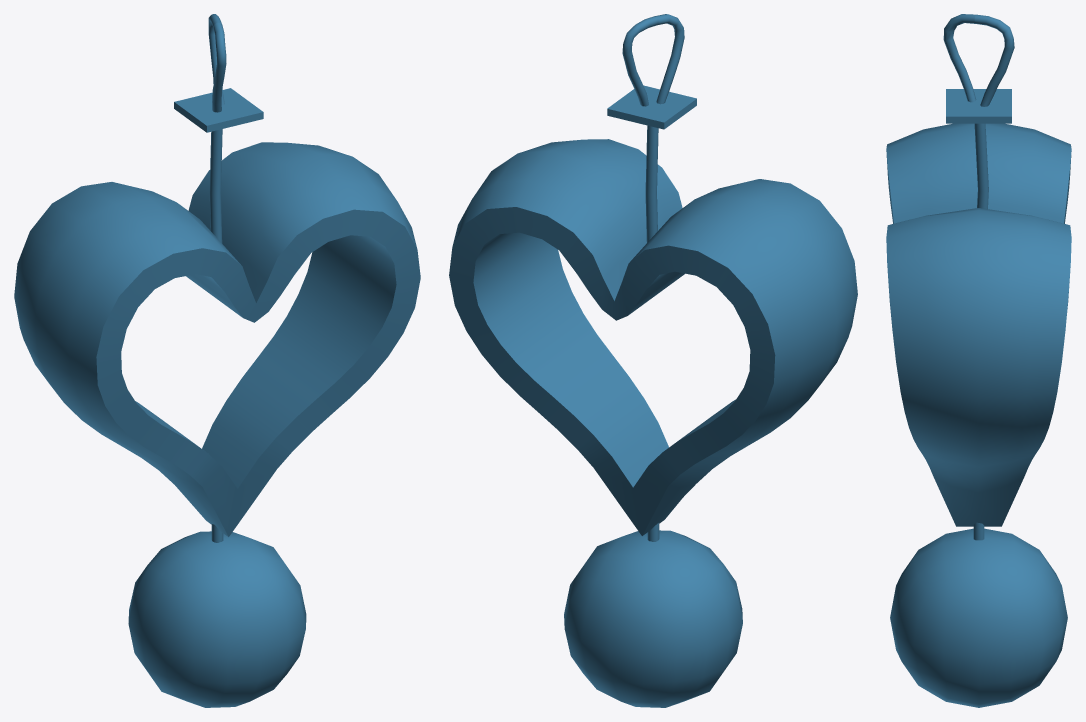
Rendered from Mesh_Corazon.fbx.
The picture shows the model from 3 angles, left to right: view 1: azimuth 30°, elevation 25°; view 2: azimuth 150°, elevation 25°; view 3: azimuth 270°, elevation 25°; orthographic projection.
Visible parts, largest first — view 1: Mesh_Corazon; view 2: Mesh_Corazon; view 3: Mesh_Corazon.
Boxes of the visible parts, left/top/right/bottom form: Mesh_Corazon: left=14, top=14, right=420, bottom=707; Mesh_Corazon: left=449, top=14, right=857, bottom=707; Mesh_Corazon: left=886, top=14, right=1071, bottom=707.
Bounding box in the file's own units: 107 × 190 × 46.83.
